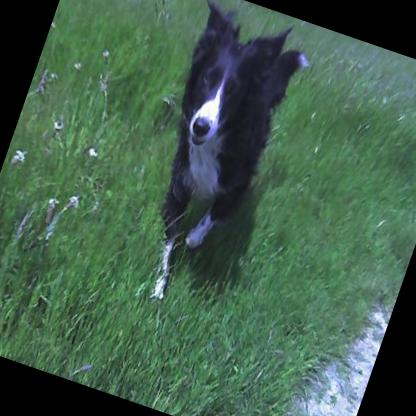Border_collie: (105, 0, 316, 323)
